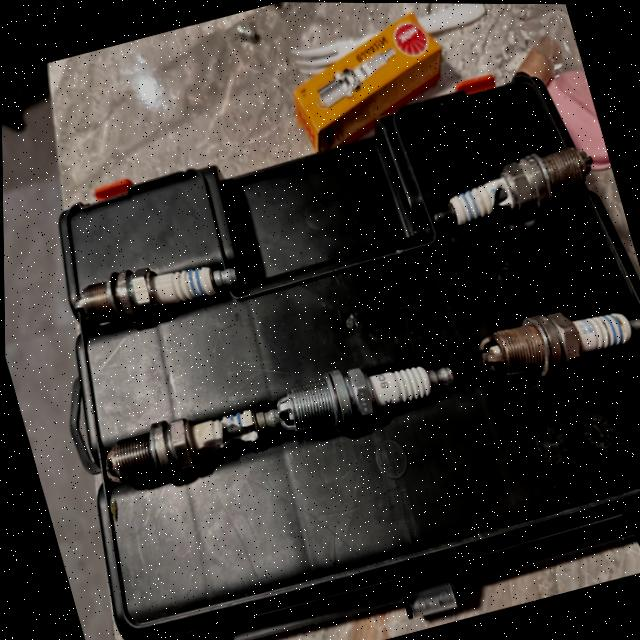damaged_spark-plug: (79, 386, 285, 503), (416, 130, 600, 239)
spark-plug: (262, 333, 465, 456), (458, 274, 640, 405), (56, 230, 246, 351)
